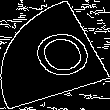O_S: (17, 23, 93, 87)
